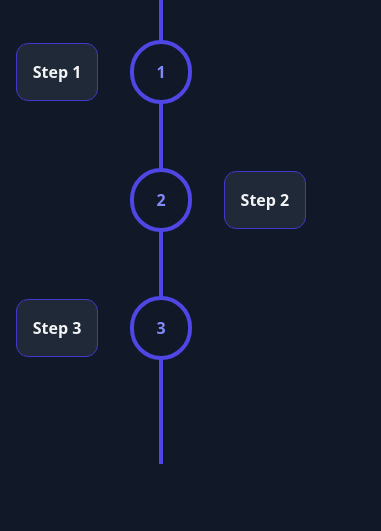
Timeline Component › clicking the circle toggles the step description
Click the text "2". click: (161, 200)
box: [130,168,192,232]
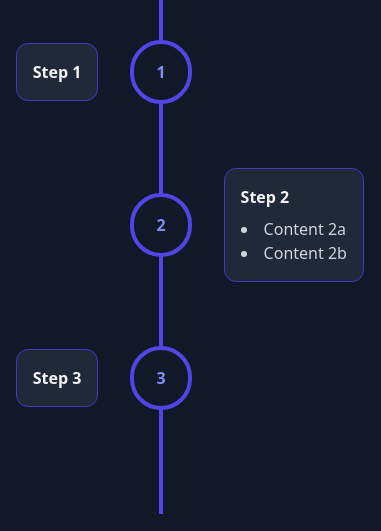
Expected: the list item "Content 2a" is shown, [264,218,346,240]
Expected: the list item "Content 2b" is shown, [264,242,347,264]
